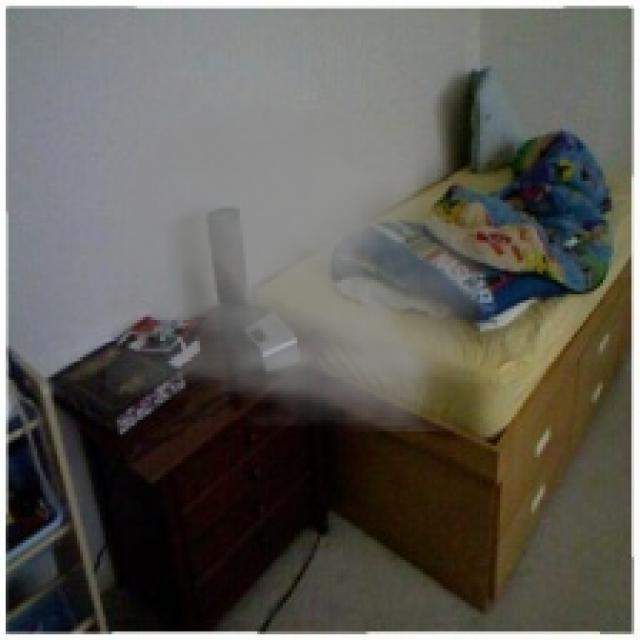smoke: (106, 86, 511, 431)
